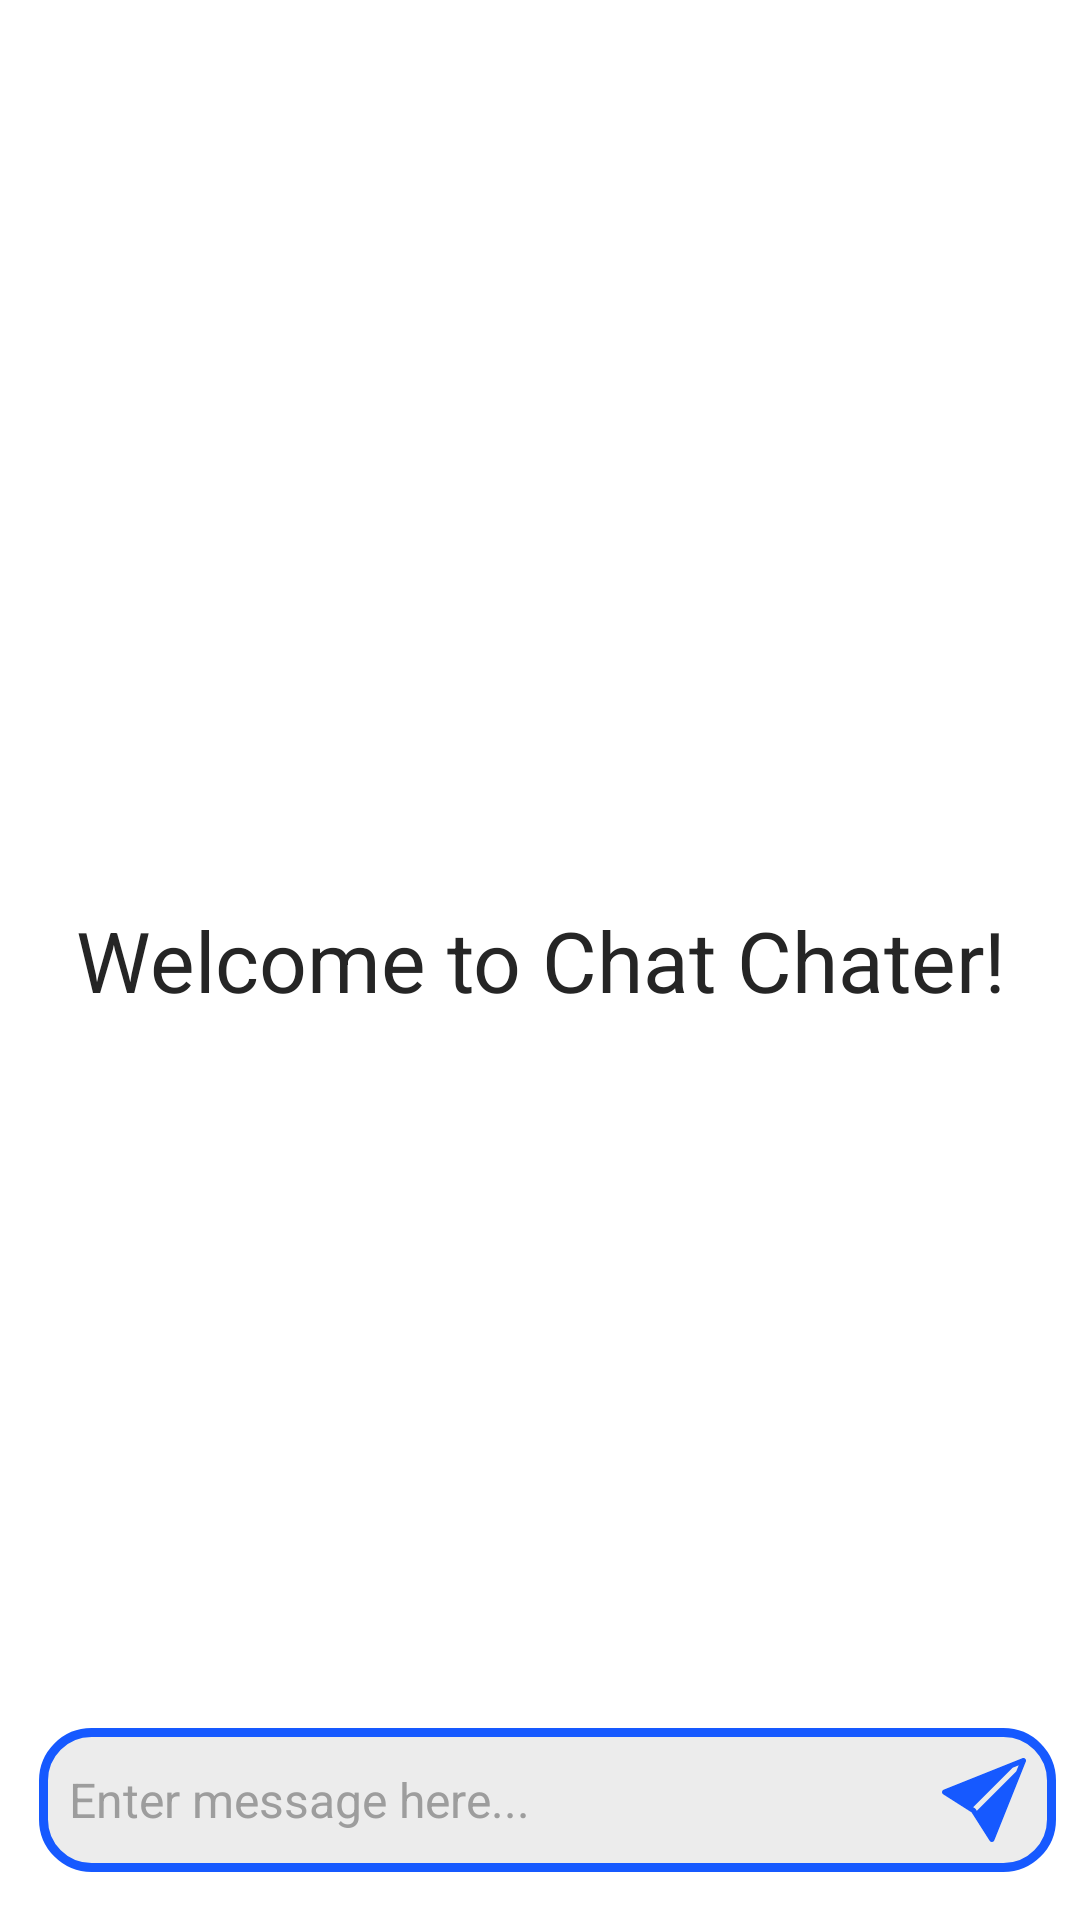

Icon click points for this 1080px×1920px phone screenshot, format point (x, y):
Send message: point (984, 1800)
